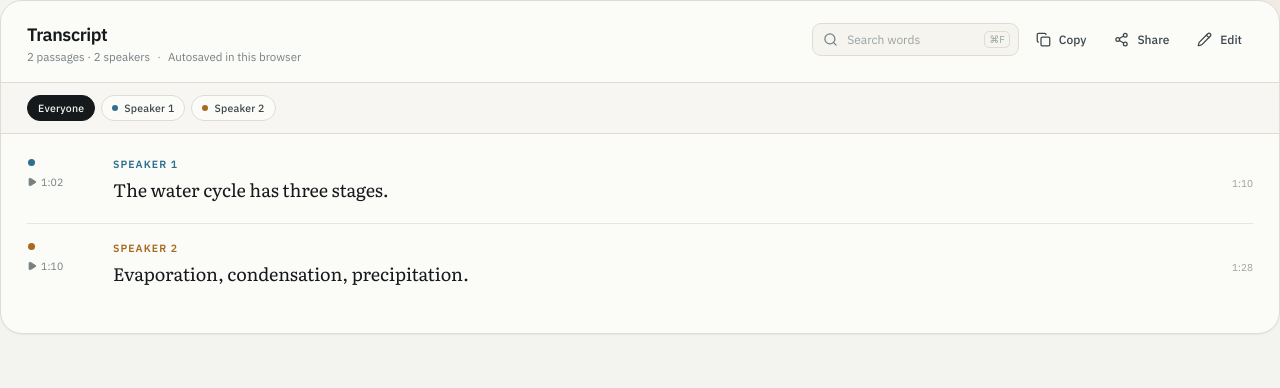
Test case: TranscriptView › renames a speaker from edit mode
Click the button "Edit" at (1220, 40), box [1186,24,1253,56]
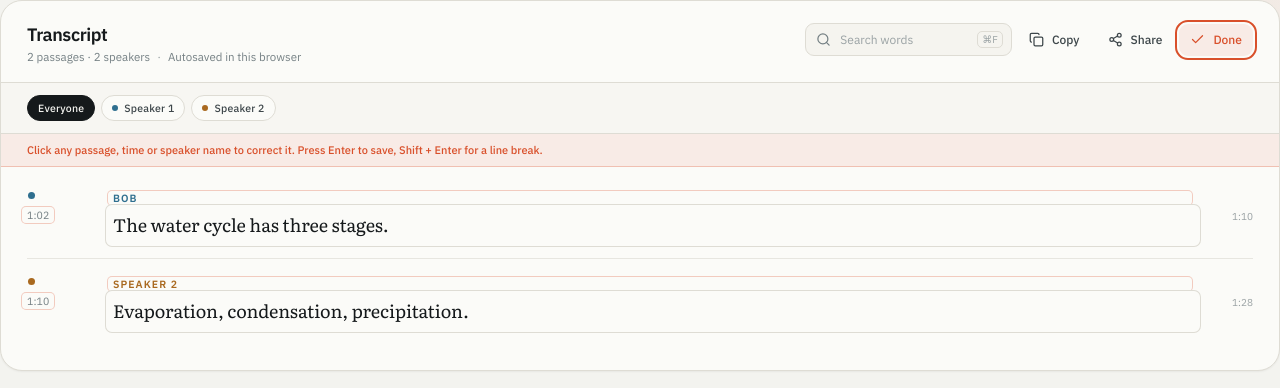
Check: the field with class "segment-speaker-edit" showing "Bob" is shown, box [107,190,1193,206]
